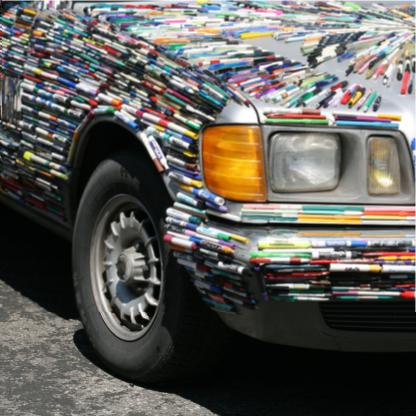Pen: (1, 0, 415, 314)
